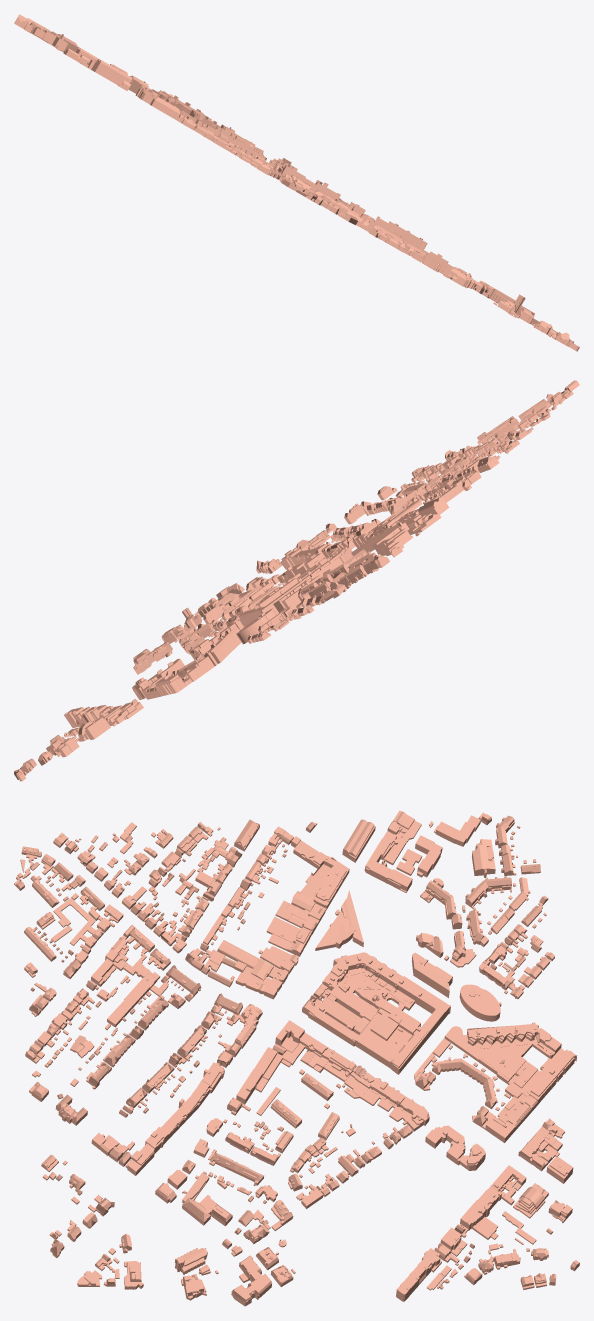
The picture shows the model from 3 angles, top to bottom: view 1: azimuth 30°, elevation 25°; view 2: azimuth 150°, elevation 25°; view 3: azimuth 270°, elevation 25°; orthographic projection. The views are drawn at different scales.
Bounding box in the file's own units: 520 × 389 × 645.
